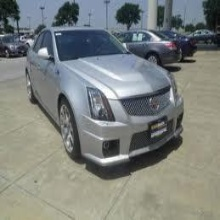no damage: (24, 26, 183, 168)
